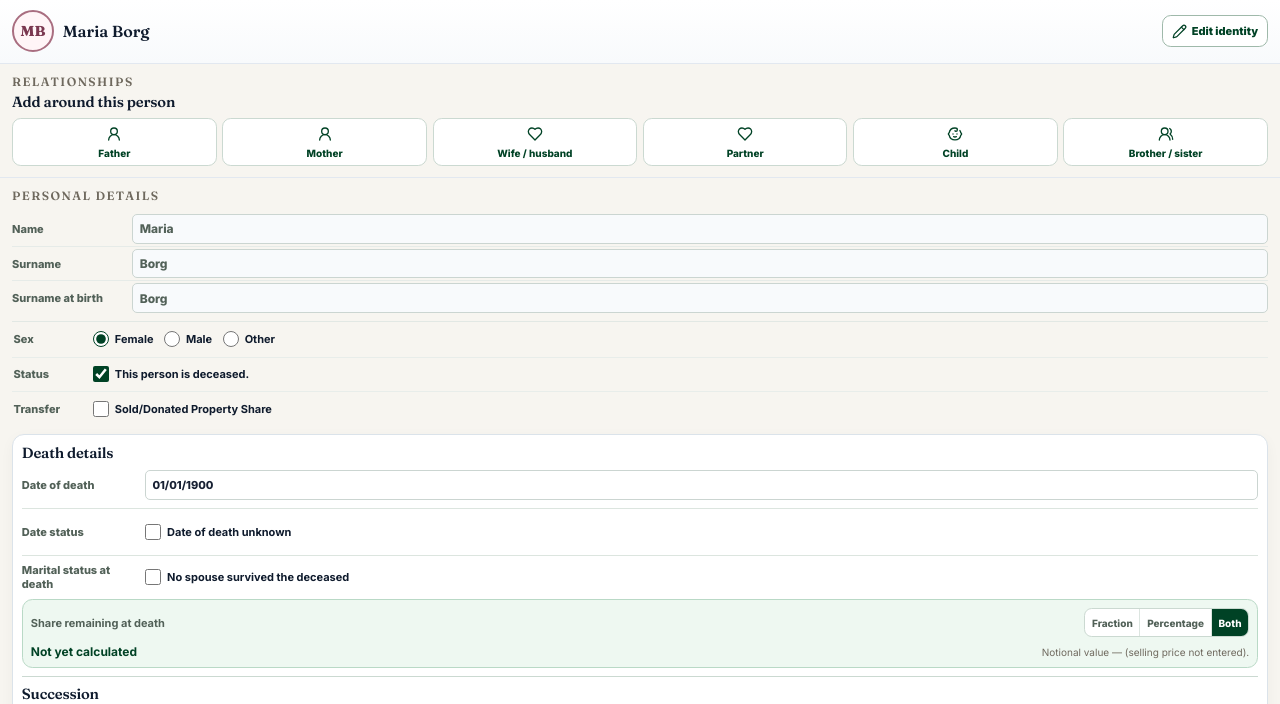
Test case: PersonInspector › records an unknown legal death date without inventing an exact date
Click the checkbox named "Date of death unknown" at (153, 532), box [145, 516, 161, 547]
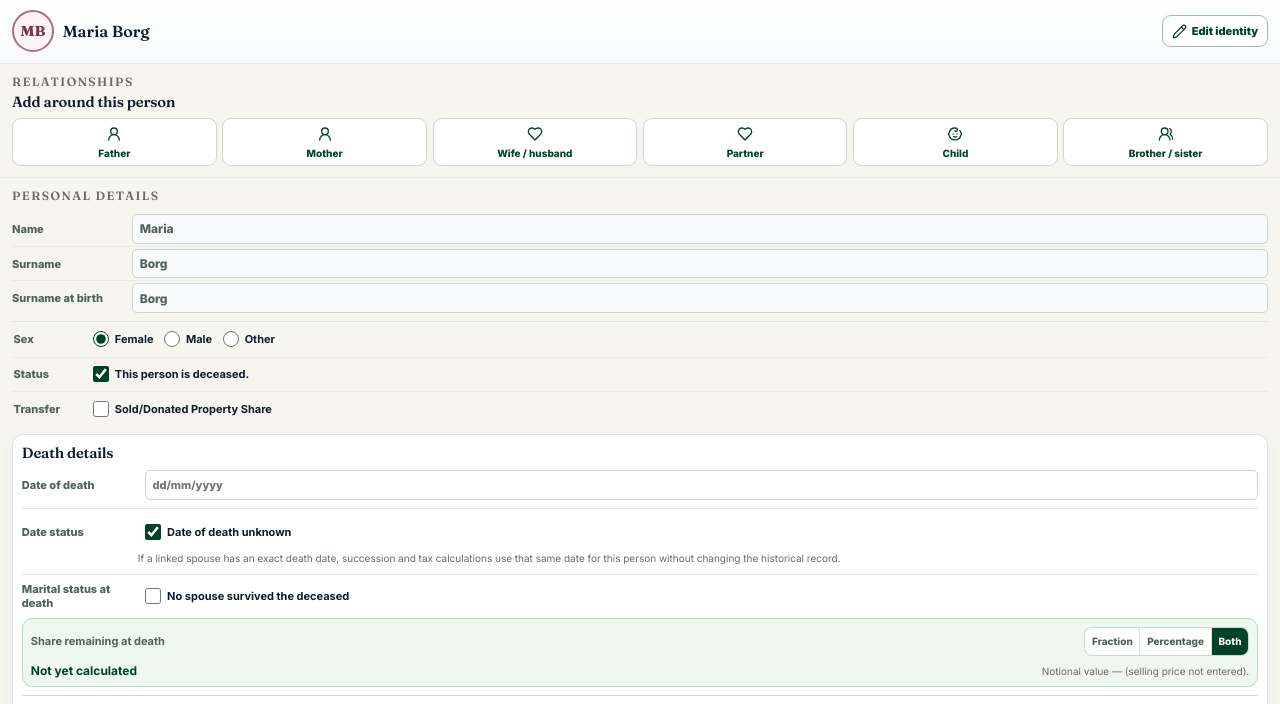
Check: the field labelled "Date of death" is disabled, box [145, 470, 1258, 500]
